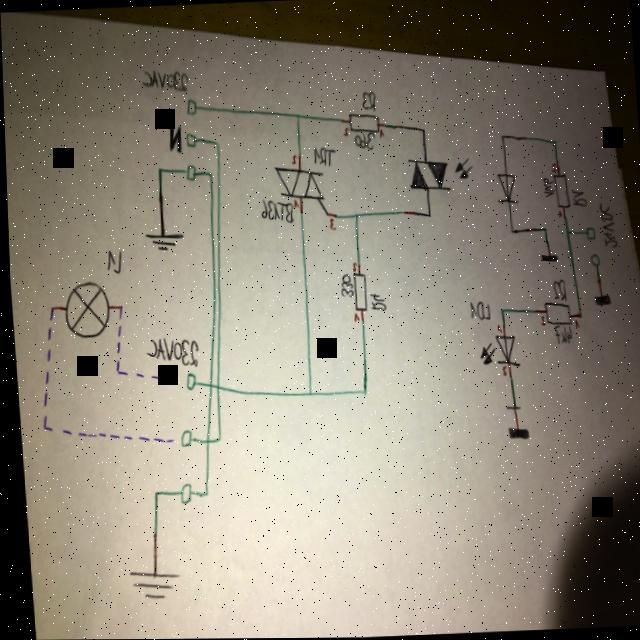crossover: (199, 435, 207, 445), (211, 381, 217, 389), (204, 379, 210, 387)
diode: (475, 334, 517, 368)
ground: (121, 564, 179, 602), (139, 226, 183, 252), (502, 422, 526, 442), (590, 290, 609, 309), (537, 249, 556, 264)
junction: (153, 162, 162, 172), (113, 301, 122, 310), (212, 138, 220, 147), (110, 365, 118, 374), (45, 301, 53, 310), (211, 432, 218, 442), (302, 388, 310, 396), (357, 386, 364, 395), (424, 210, 431, 219), (148, 488, 155, 496), (293, 111, 300, 119), (37, 422, 44, 430), (562, 227, 568, 236), (550, 137, 556, 145), (506, 226, 512, 234), (539, 224, 545, 232), (574, 310, 580, 318), (205, 169, 211, 177), (419, 125, 425, 133), (498, 132, 504, 139), (496, 306, 502, 313), (199, 488, 205, 495), (351, 211, 357, 218), (322, 209, 327, 216)
resistor: (345, 110, 378, 133), (541, 298, 569, 325), (551, 171, 569, 208), (349, 270, 365, 311)
terminal: (183, 96, 196, 115), (182, 130, 196, 147), (582, 225, 594, 240), (586, 251, 598, 266)
text: (141, 333, 197, 368), (138, 65, 188, 94), (256, 195, 292, 223), (596, 199, 616, 249), (310, 142, 336, 167), (164, 117, 182, 153), (465, 298, 489, 321), (102, 245, 121, 273), (351, 129, 375, 150), (550, 322, 570, 345), (548, 276, 565, 301), (336, 271, 352, 297), (359, 88, 376, 111), (366, 290, 384, 311), (568, 187, 586, 207), (540, 174, 553, 198), (326, 216, 334, 230), (340, 124, 348, 137), (497, 364, 505, 376), (548, 161, 556, 173), (350, 310, 357, 322), (536, 313, 543, 325), (348, 259, 354, 271), (493, 322, 499, 334), (571, 317, 577, 329), (377, 126, 383, 138), (289, 153, 296, 163), (291, 197, 297, 207), (555, 208, 560, 218)
